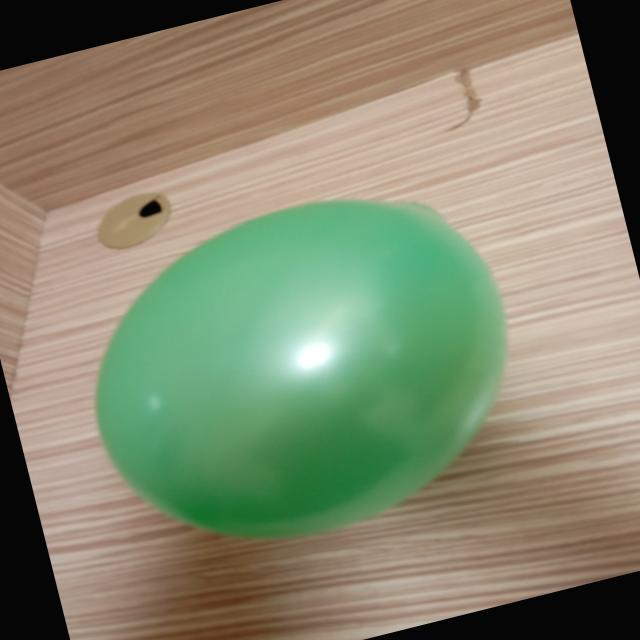balloon: (95, 200, 507, 537)
